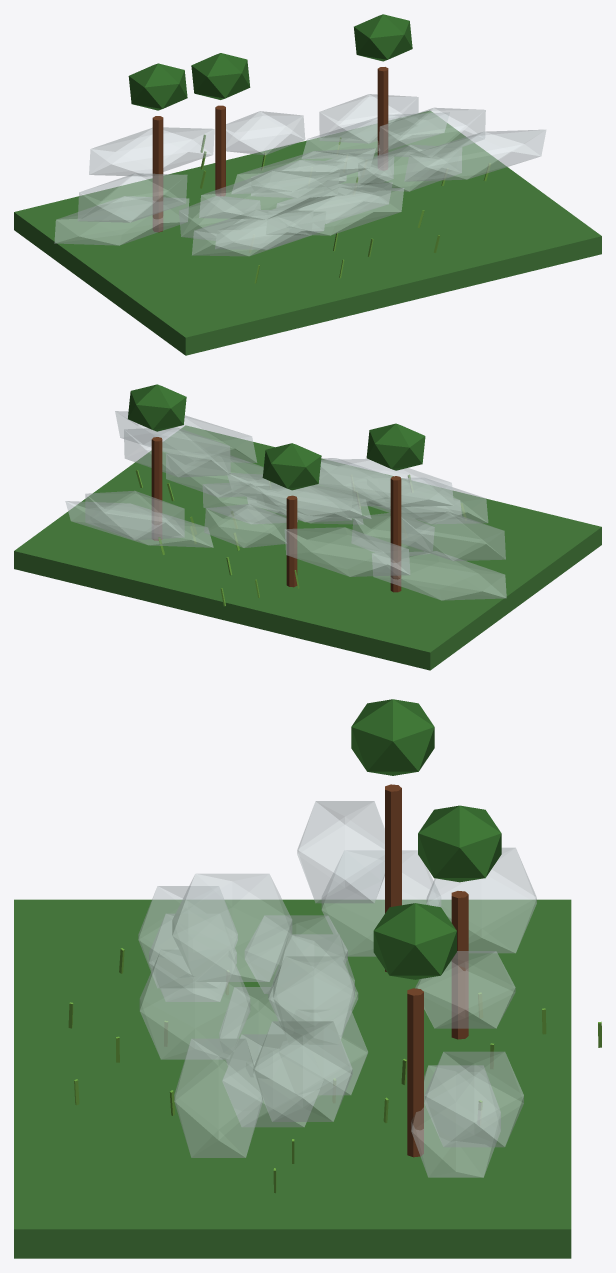
The model's file is morning_fog.glb.
The picture shows the model from 3 angles, top to bottom: view 1: azimuth 30°, elevation 25°; view 2: azimuth 150°, elevation 25°; view 3: azimuth 270°, elevation 25°; orthographic projection. The views are drawn at different scales.
Parts seen in each view (by area): view 1: TerrainBase, FogBank.012, FogBank.013, FogBank.004, FogBank.014, FogBank.007, FogBank.009, FogBank.003, FogBank, FogBank.006, FogBank.010, FogBank.005 (+13 smaller); view 2: TerrainBase, FogBank.009, FogBank.004, FogBank.012, FogBank.010, FogBank.007, FogBank.005, FogBank, FogBank.013, FogBank.015, FogBank.006, FogBank.002 (+13 smaller); view 3: TerrainBase, FogBank.012, FogBank.013, FogBank.014, FogBank.010, FogBank, FogBank.005, FogBank.007, FogBank.006, FogBank.004, FogBank.015, FogBank.009 (+13 smaller).
Boxes of the visible parts, <box> form: TerrainBase: <box>14,110,601,355</box>; FogBank.012: <box>199,170,339,219</box>; FogBank.013: <box>404,129,546,181</box>; FogBank.004: <box>54,196,189,245</box>; FogBank.014: <box>266,187,404,235</box>; FogBank.007: <box>77,173,187,222</box>; FogBank.009: <box>89,127,214,176</box>; FogBank.003: <box>192,210,313,256</box>; FogBank: <box>379,107,485,157</box>; FogBank.006: <box>358,145,461,191</box>; FogBank.010: <box>302,112,449,158</box>; FogBank.005: <box>319,94,418,143</box>; TerrainBase: <box>14,425,601,670</box>; FogBank.009: <box>284,527,410,576</box>; FogBank.004: <box>372,551,506,600</box>; FogBank.012: <box>319,458,453,507</box>; FogBank.010: <box>65,501,213,547</box>; FogBank.007: <box>401,511,505,561</box>; FogBank.005: <box>85,490,184,540</box>; FogBank: <box>124,427,230,477</box>; FogBank.013: <box>115,411,256,462</box>; FogBank.015: <box>227,472,371,518</box>; FogBank.006: <box>166,453,269,497</box>; FogBank.002: <box>204,504,286,547</box>; TerrainBase: <box>14,899,571,1258</box>; FogBank.012: <box>172,873,292,981</box>; FogBank.013: <box>174,1038,262,1157</box>; FogBank.014: <box>139,950,250,1059</box>; FogBank.010: <box>411,1065,500,1177</box>; FogBank: <box>253,1021,352,1121</box>; FogBank.005: <box>424,1051,523,1147</box>; FogBank.007: <box>297,801,384,903</box>; FogBank.006: <box>222,1034,323,1127</box>; FogBank.004: <box>321,850,440,956</box>; FogBank.015: <box>273,934,354,1039</box>; FogBank.009: <box>426,847,536,953</box>.
Size of the model in its own units: 14.86 by 5.95 by 10.55.
